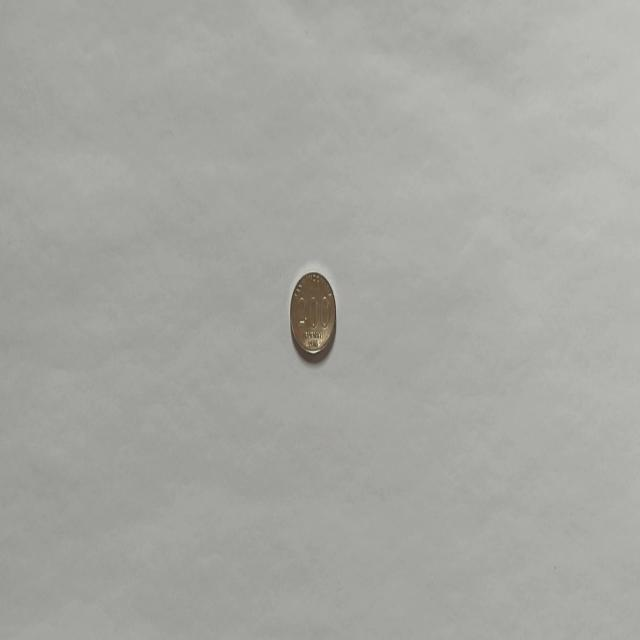dua ratus rupiah: (288, 269, 336, 359)
